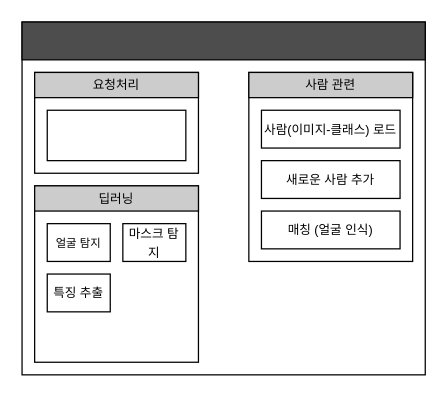
The diagram is 447 pixels wide and 397 high, and some of its shapes have lost their labels. The centre of each missing label's shape, as x and y in pixels:
HTTP 서버 실행: the point at 116,135
얼굴인식서버: the point at 223,40
